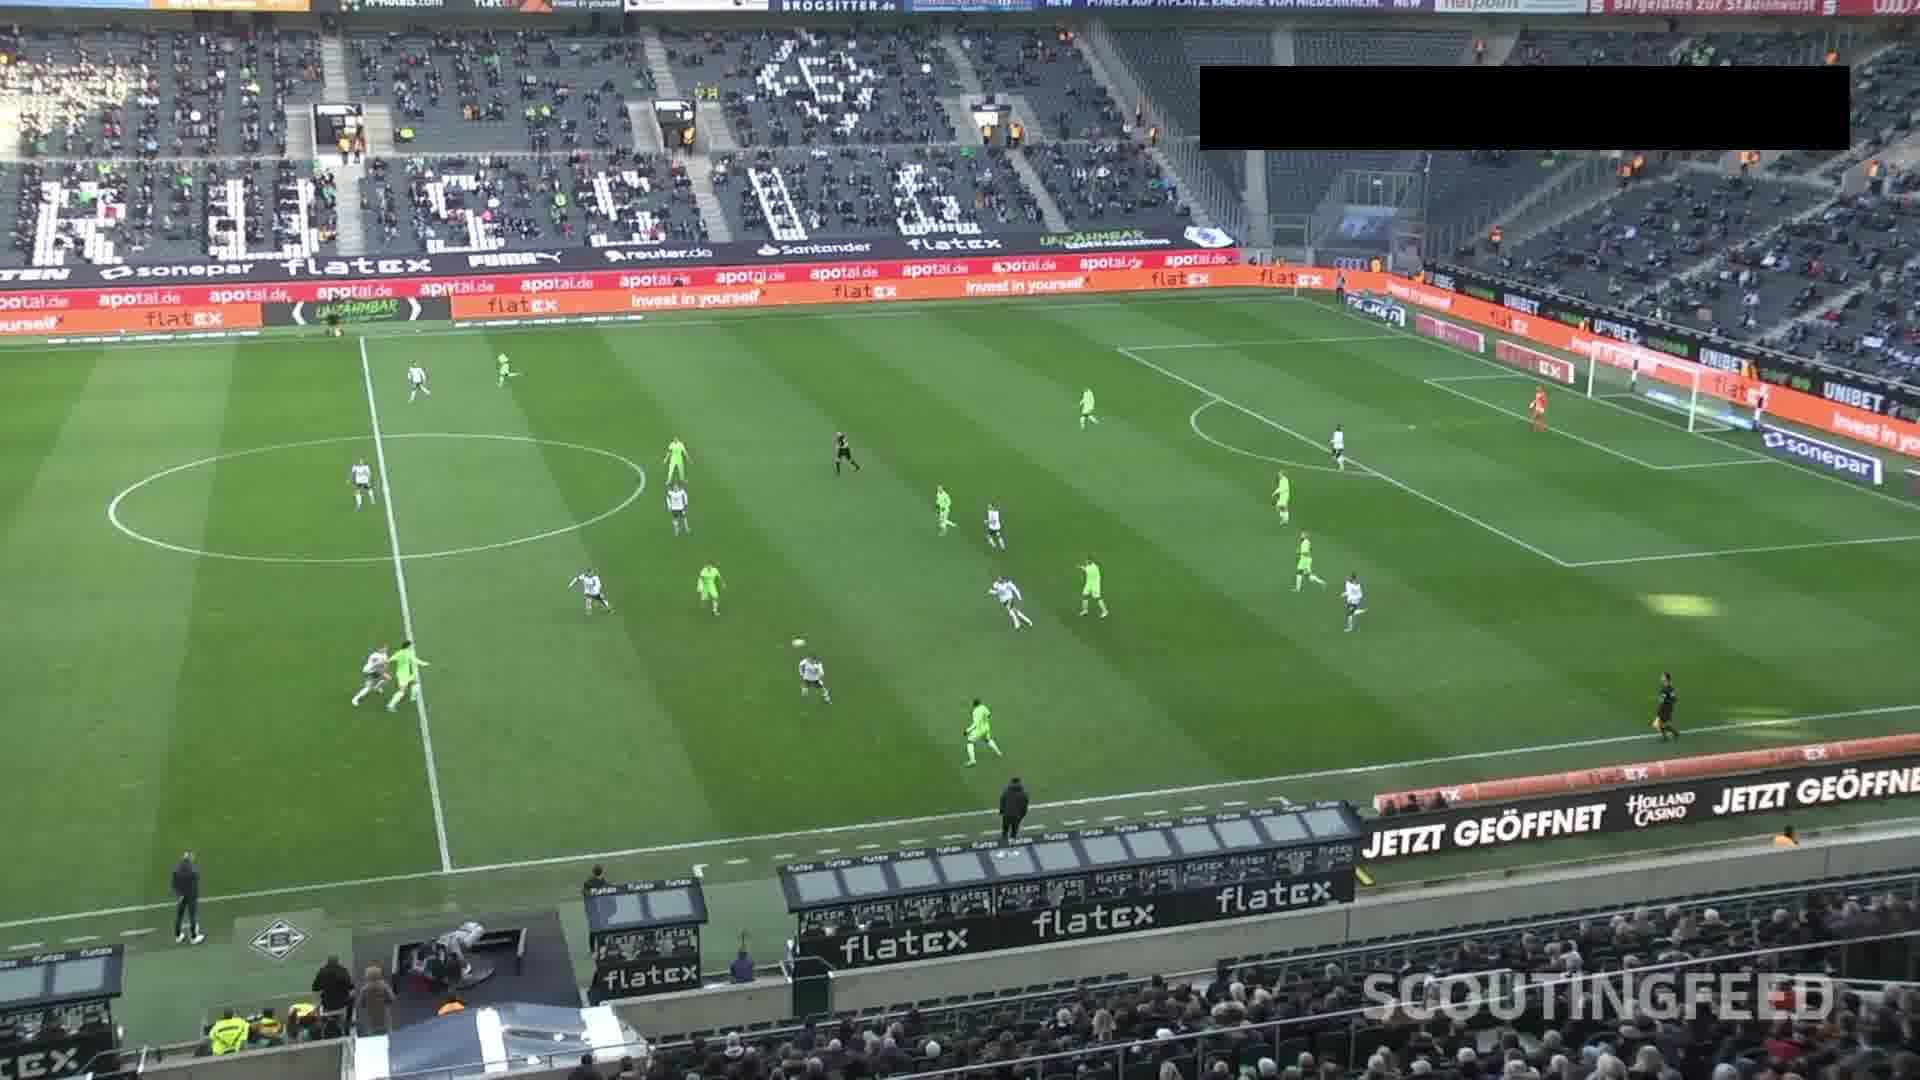football: (793, 638, 807, 649)
